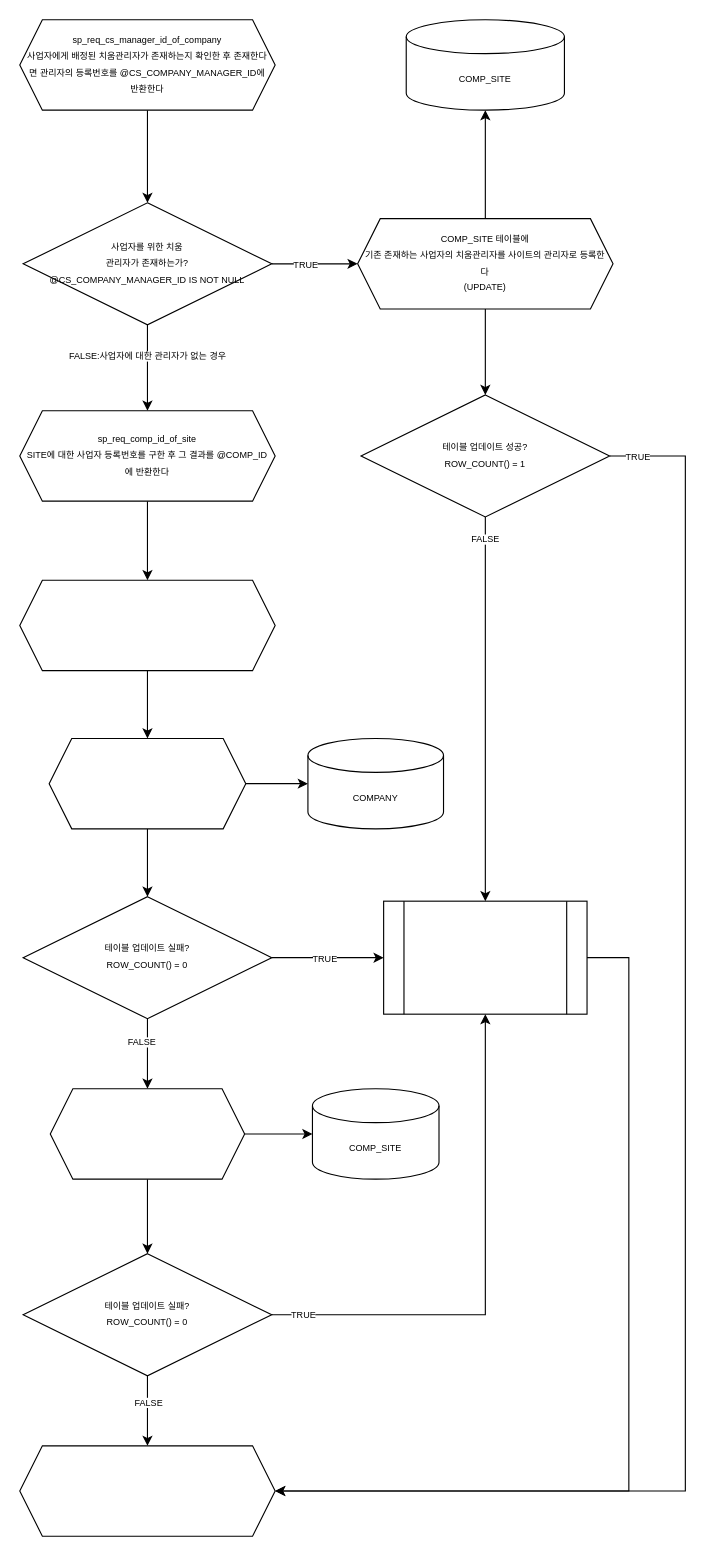
The diagram is 714 pixels wide and 1556 high, and some of its shapes have lost their labels. Each missing label, with the centre of its shape:
"COMP_SITE 테이블에 담당자 정보를 입력한다 (UPDATE)" belongs at (x=147, y=1133).
"COMPANY 테이블에 담당자 정보를 입력한다 (UPDATE)" belongs at (x=147, y=783).
"EXCEPTION HANDLER SQLSTATE 23000" belongs at (x=485, y=957).
"sp_req_cs_manager_in_charge 사업자관리자 등록번호를 구한후 그 결과를 @CS_MANAGER_ID에 반환한다" belongs at (x=147, y=625).
"sp_return_results (@rtn_val, @msg_txt, @json_data) 결과를 반환한다." belongs at (x=147, y=1490).
